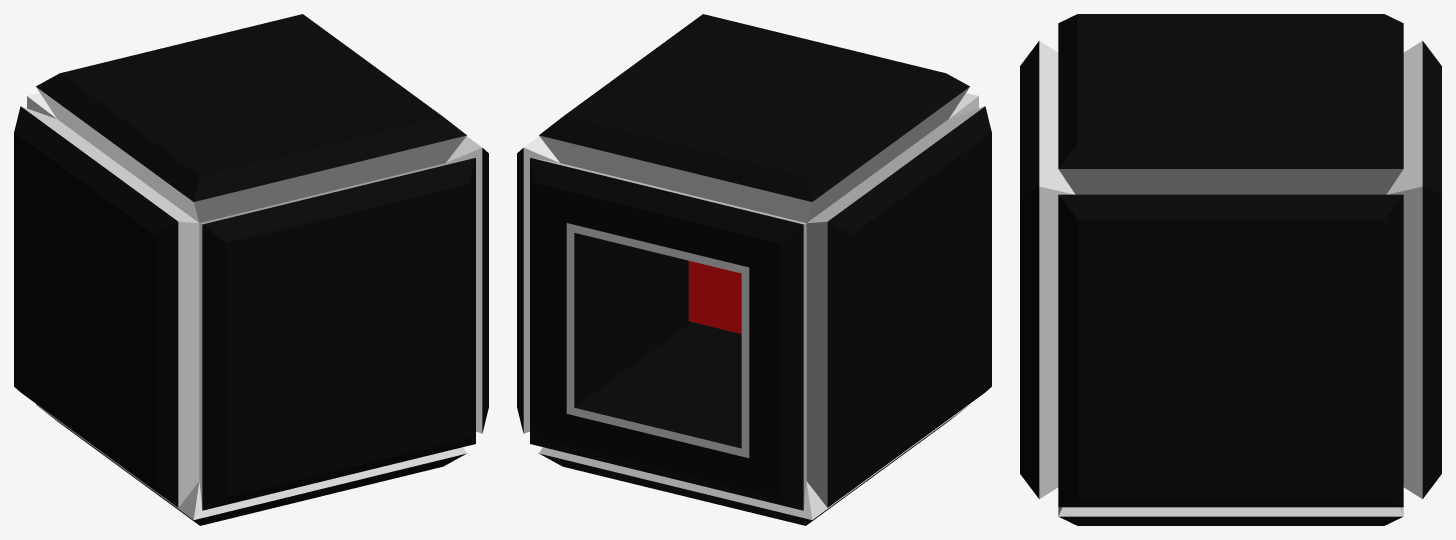
Rendered from enemy_big.fbx.
3 renders of one model, left to right at view 1: azimuth 30°, elevation 25°; view 2: azimuth 150°, elevation 25°; view 3: azimuth 270°, elevation 25°, orthographic. The views are drawn at different scales.
Visible parts, largest first — view 1: enemy-big; view 2: enemy-big, enemy-red-cube; view 3: enemy-big.
Boxes of the visible parts, x1,y1,x2,y2 form: enemy-big: (14, 14, 488, 525); enemy-big: (517, 14, 991, 525); enemy-red-cube: (688, 261, 741, 333); enemy-big: (1020, 14, 1441, 525).
Size of the model in its own units: 400 by 400 by 400.
